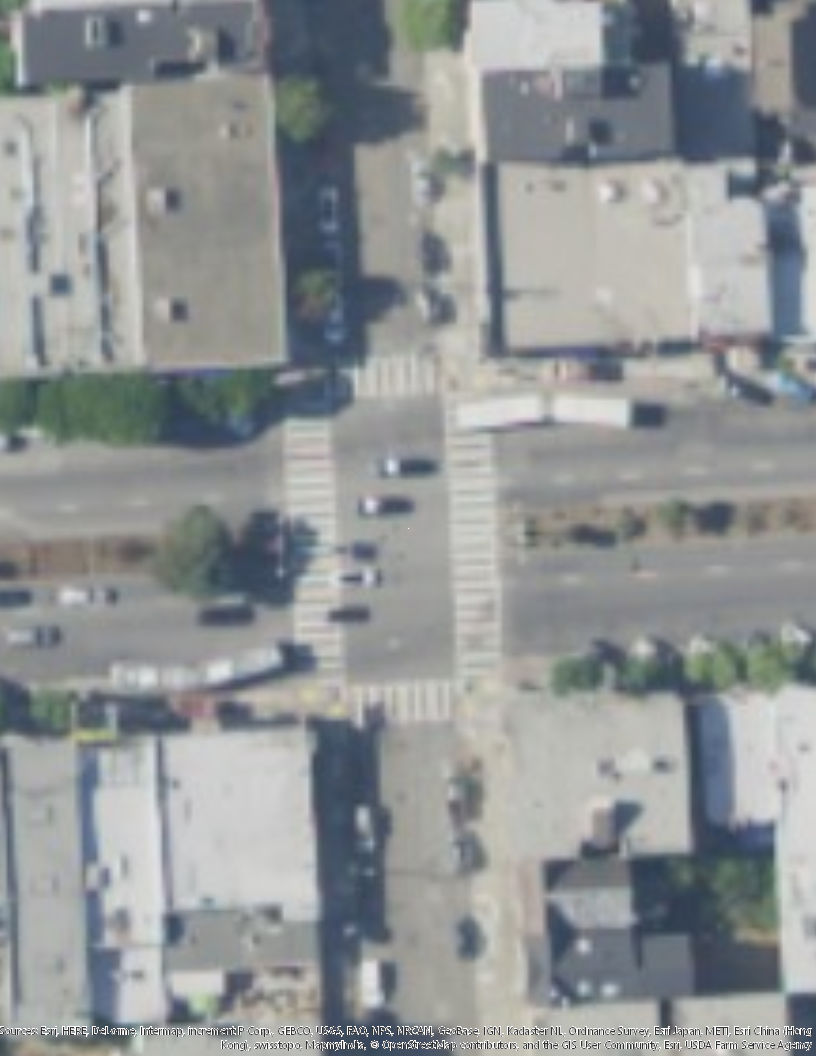zebracross: (277, 389, 347, 679), (443, 408, 503, 676), (344, 677, 451, 727), (321, 352, 441, 394)
